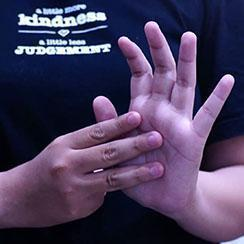M: (1, 0, 235, 243)
